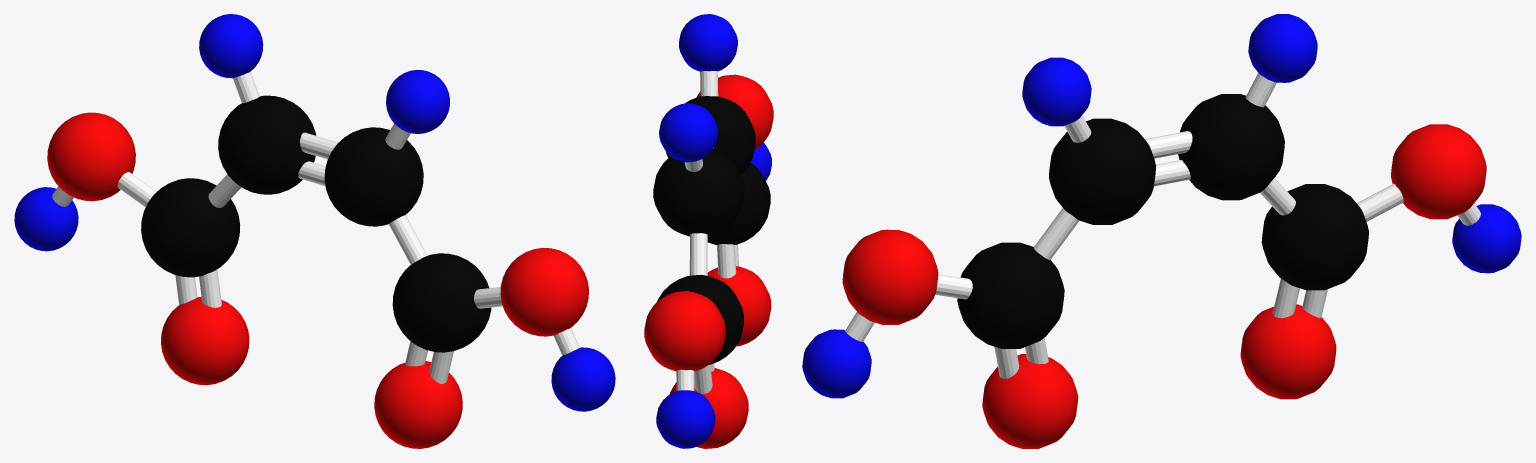
Rendered from acido-cis-butenodioico.obj.
3 views of the same model, side by side, from view 1: azimuth 30°, elevation 25°; view 2: azimuth 150°, elevation 25°; view 3: azimuth 270°, elevation 25° (orthographic). The views are drawn at different scales.
Visible parts, largest first — view 1: Shape_Sphere_Shape_Sphere.005, Shape_Sphere.002_Shape_Sphere.007, Shape_Sphere.003_Shape_Sphere.008, Shape_Sphere.001_Shape_Sphere.006, Shape_Sphere.008_Shape_Sphere.013, Shape_Sphere.009_Shape_Sphere.014, Shape_Sphere.005_Shape_Sphere.010, Shape_Sphere.004_Shape_Sphere.009, Shape_Sphere.006_Shape_Sphere.011, Shape_Sphere.007_Shape_Sphere.012, Shape_Sphere.010_Shape_Sphere.015, Shape_Sphere.011_Shape_Sphere.016; view 2: Shape_Sphere.001_Shape_Sphere.006, Shape_Sphere.009_Shape_Sphere.014, Shape_Sphere.007_Shape_Sphere.012, Shape_Sphere.011_Shape_Sphere.016, Shape_Sphere.006_Shape_Sphere.011, Shape_Sphere_Shape_Sphere.005, Shape_Sphere.005_Shape_Sphere.010, Shape_Sphere.003_Shape_Sphere.008, Shape_Sphere.002_Shape_Sphere.007, Shape_Sphere.004_Shape_Sphere.009, Shape_Sphere.008_Shape_Sphere.013, Shape_Sphere.010_Shape_Sphere.015 (+11 smaller); view 3: Shape_Sphere.002_Shape_Sphere.007, Shape_Sphere_Shape_Sphere.005, Shape_Sphere.003_Shape_Sphere.008, Shape_Sphere.001_Shape_Sphere.006, Shape_Sphere.008_Shape_Sphere.013, Shape_Sphere.009_Shape_Sphere.014, Shape_Sphere.005_Shape_Sphere.010, Shape_Sphere.004_Shape_Sphere.009, Shape_Sphere.006_Shape_Sphere.011, Shape_Sphere.007_Shape_Sphere.012, Shape_Sphere.010_Shape_Sphere.015, Shape_Sphere.011_Shape_Sphere.016.
Boxes of the visible parts, x1=… form: Shape_Sphere_Shape_Sphere.005: x1=324, y1=127, x2=423, y2=226; Shape_Sphere.002_Shape_Sphere.007: x1=392, y1=253, x2=491, y2=352; Shape_Sphere.003_Shape_Sphere.008: x1=141, y1=178, x2=240, y2=277; Shape_Sphere.001_Shape_Sphere.006: x1=218, y1=95, x2=315, y2=194; Shape_Sphere.008_Shape_Sphere.013: x1=500, y1=248, x2=588, y2=336; Shape_Sphere.009_Shape_Sphere.014: x1=47, y1=112, x2=135, y2=201; Shape_Sphere.005_Shape_Sphere.010: x1=161, y1=297, x2=249, y2=385; Shape_Sphere.004_Shape_Sphere.009: x1=374, y1=361, x2=462, y2=448; Shape_Sphere.006_Shape_Sphere.011: x1=386, y1=70, x2=449, y2=133; Shape_Sphere.007_Shape_Sphere.012: x1=199, y1=14, x2=263, y2=78; Shape_Sphere.010_Shape_Sphere.015: x1=551, y1=347, x2=615, y2=411; Shape_Sphere.011_Shape_Sphere.016: x1=14, y1=187, x2=78, y2=251; Shape_Sphere.001_Shape_Sphere.006: x1=653, y1=149, x2=744, y2=236; Shape_Sphere.009_Shape_Sphere.014: x1=644, y1=291, x2=725, y2=371; Shape_Sphere.007_Shape_Sphere.012: x1=659, y1=103, x2=717, y2=162; Shape_Sphere.011_Shape_Sphere.016: x1=656, y1=390, x2=715, y2=448; Shape_Sphere.006_Shape_Sphere.011: x1=679, y1=14, x2=737, y2=71; Shape_Sphere_Shape_Sphere.005: x1=666, y1=96, x2=755, y2=174; Shape_Sphere.005_Shape_Sphere.010: x1=669, y1=368, x2=748, y2=448; Shape_Sphere.003_Shape_Sphere.008: x1=656, y1=274, x2=743, y2=364; Shape_Sphere.002_Shape_Sphere.007: x1=707, y1=162, x2=770, y2=244; Shape_Sphere.004_Shape_Sphere.009: x1=707, y1=266, x2=771, y2=346; Shape_Sphere.008_Shape_Sphere.013: x1=696, y1=74, x2=773, y2=149; Shape_Sphere.010_Shape_Sphere.015: x1=750, y1=142, x2=771, y2=180; Shape_Sphere.002_Shape_Sphere.007: x1=957, y1=242, x2=1064, y2=348; Shape_Sphere_Shape_Sphere.005: x1=1049, y1=118, x2=1155, y2=224; Shape_Sphere.003_Shape_Sphere.008: x1=1261, y1=184, x2=1368, y2=290; Shape_Sphere.001_Shape_Sphere.006: x1=1178, y1=94, x2=1284, y2=200; Shape_Sphere.008_Shape_Sphere.013: x1=842, y1=229, x2=938, y2=324; Shape_Sphere.009_Shape_Sphere.014: x1=1391, y1=124, x2=1486, y2=219; Shape_Sphere.005_Shape_Sphere.010: x1=1240, y1=304, x2=1336, y2=399; Shape_Sphere.004_Shape_Sphere.009: x1=982, y1=354, x2=1078, y2=448; Shape_Sphere.006_Shape_Sphere.011: x1=1022, y1=57, x2=1091, y2=126; Shape_Sphere.007_Shape_Sphere.012: x1=1248, y1=14, x2=1317, y2=82; Shape_Sphere.010_Shape_Sphere.015: x1=802, y1=329, x2=871, y2=398; Shape_Sphere.011_Shape_Sphere.016: x1=1452, y1=204, x2=1521, y2=273.
Bounding box in the file's own units: 3.47 × 4.07 × 6.8.
